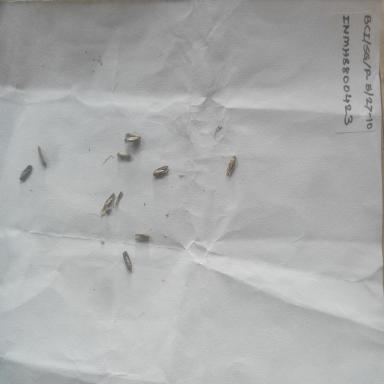pbw: (121, 128, 142, 146), (17, 162, 34, 184), (224, 153, 238, 178), (36, 144, 50, 169), (151, 162, 171, 178), (133, 228, 151, 244), (122, 249, 133, 272), (115, 148, 132, 162), (103, 195, 114, 208)
